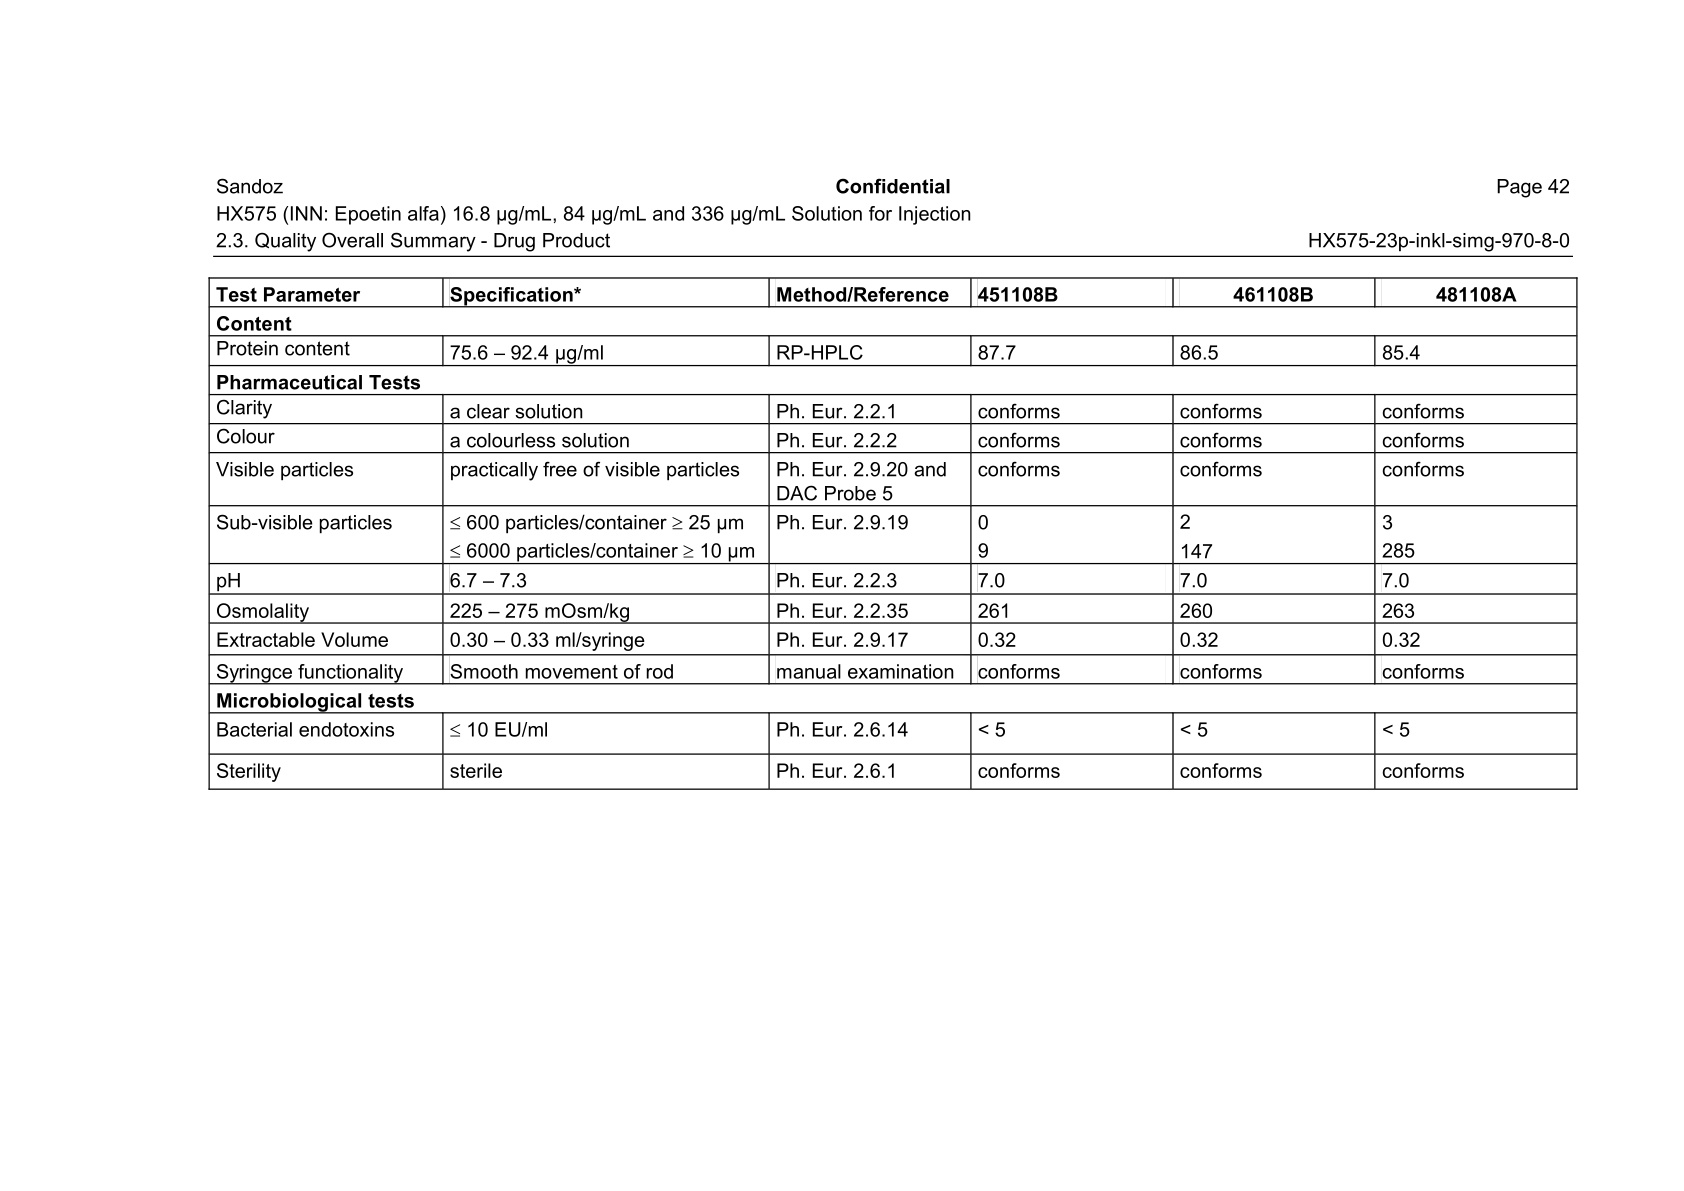merged_cells: (207, 276, 1580, 790)
